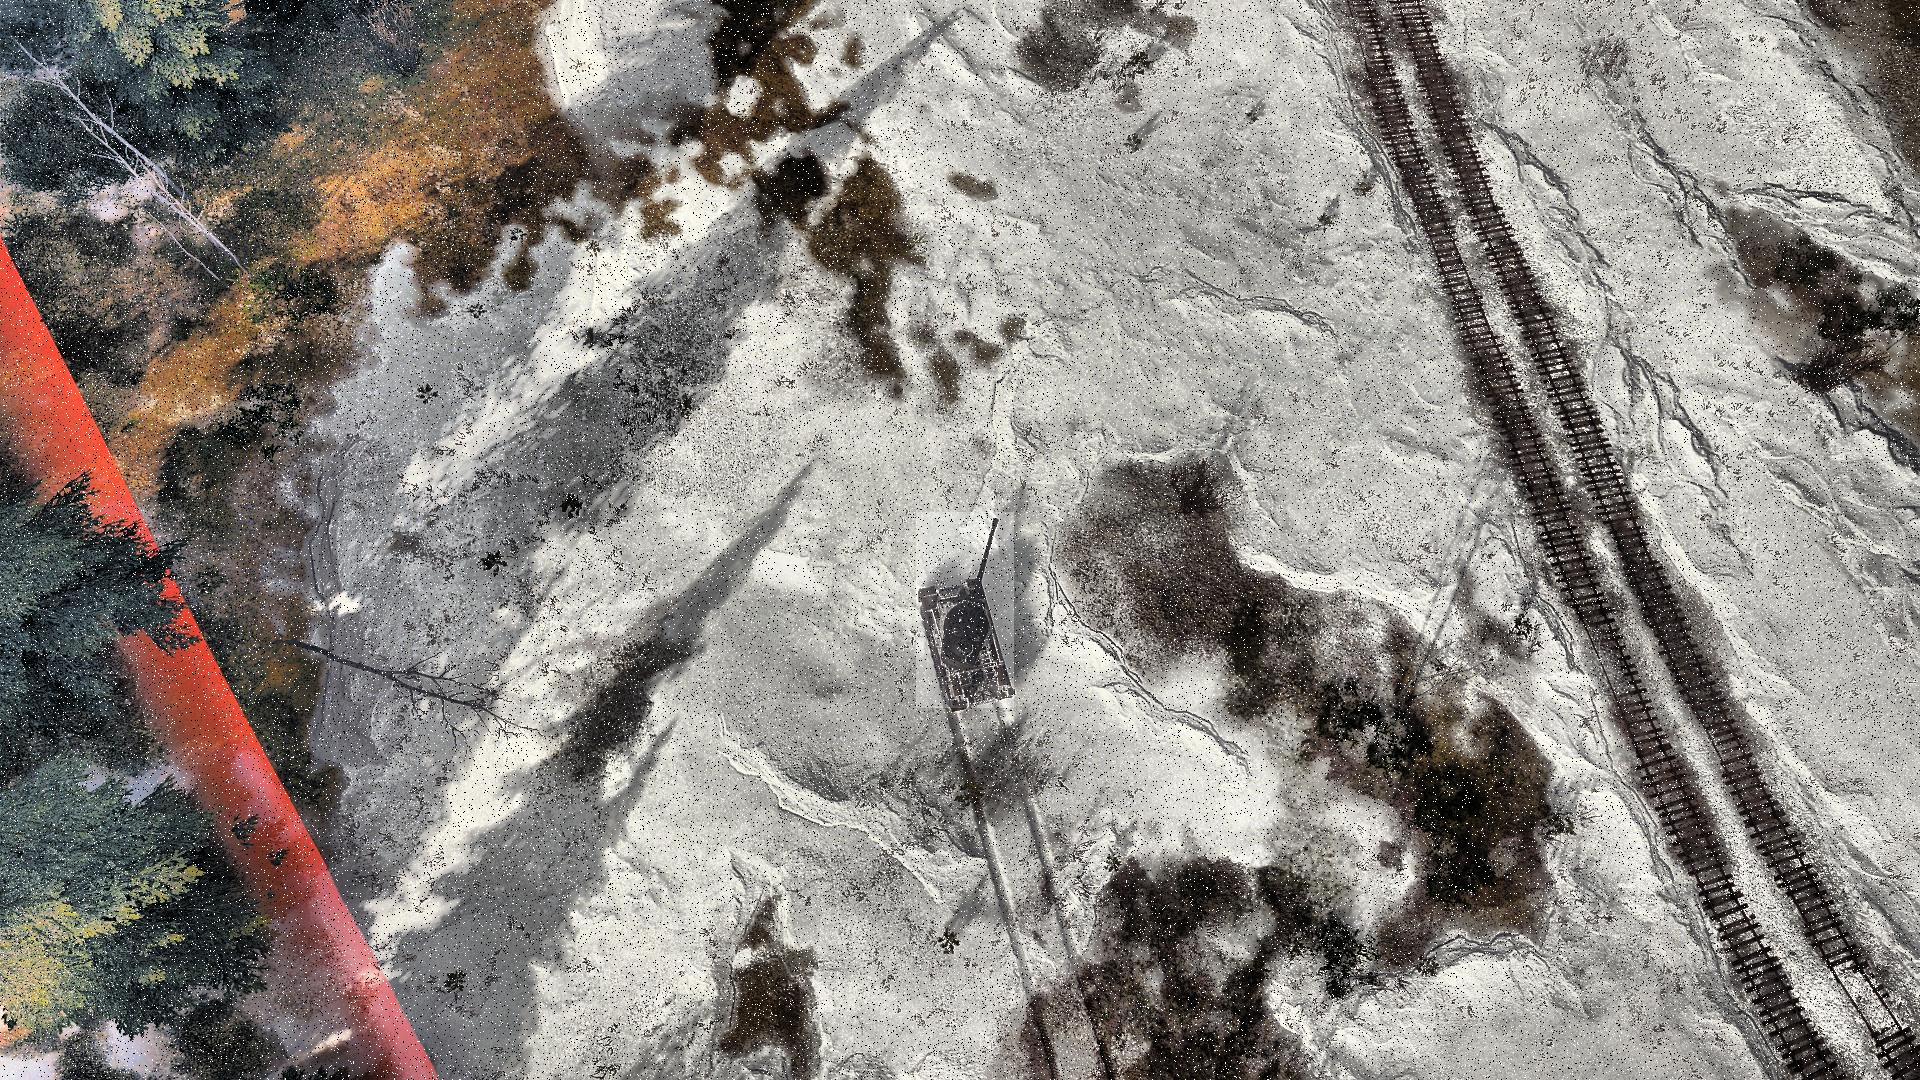military-vehicle: (916, 512, 1015, 708)
